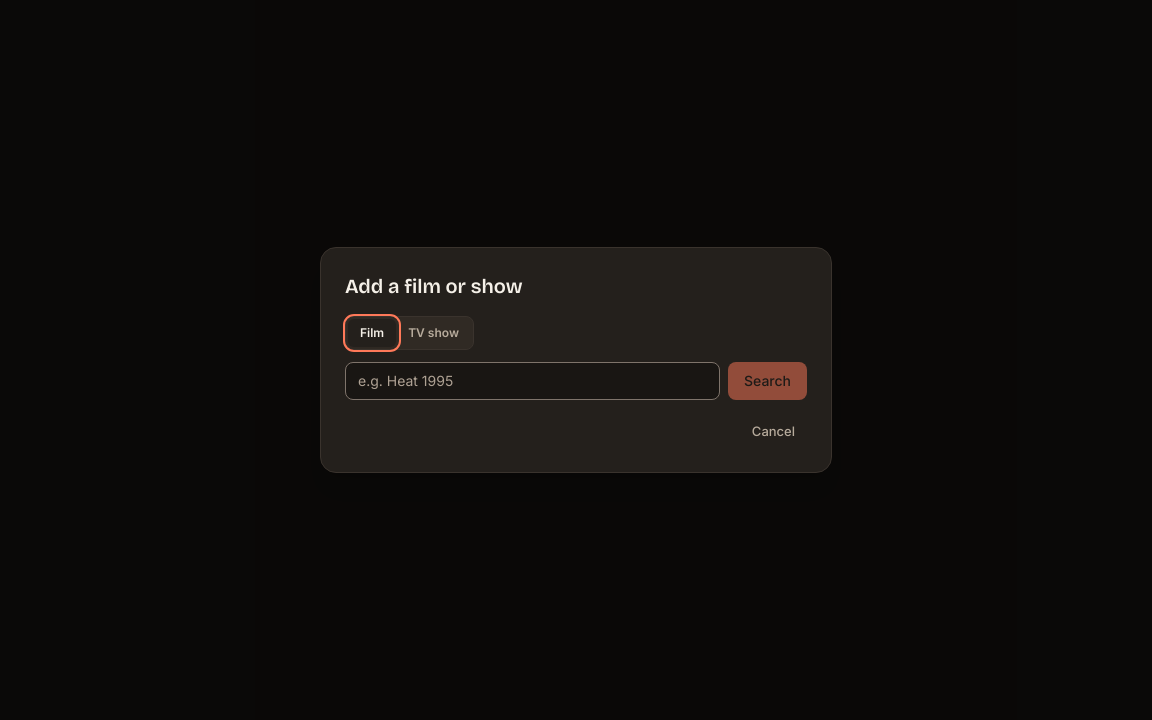
Test: AddTitleModal › asks for a rating before a review, as books do
Type "Heat" into the field named "Title".
click(532, 381); type("Heat")  # box [345, 362, 720, 400]
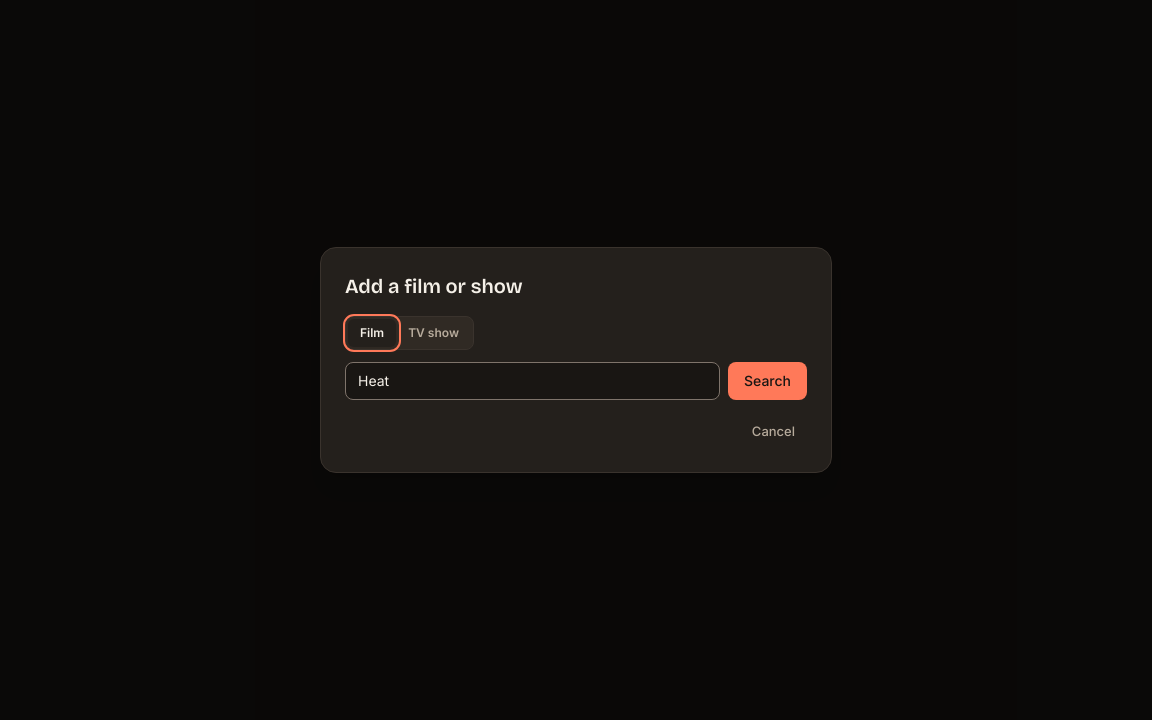
Click the button "Search".
click(768, 381)  # box [728, 362, 807, 400]
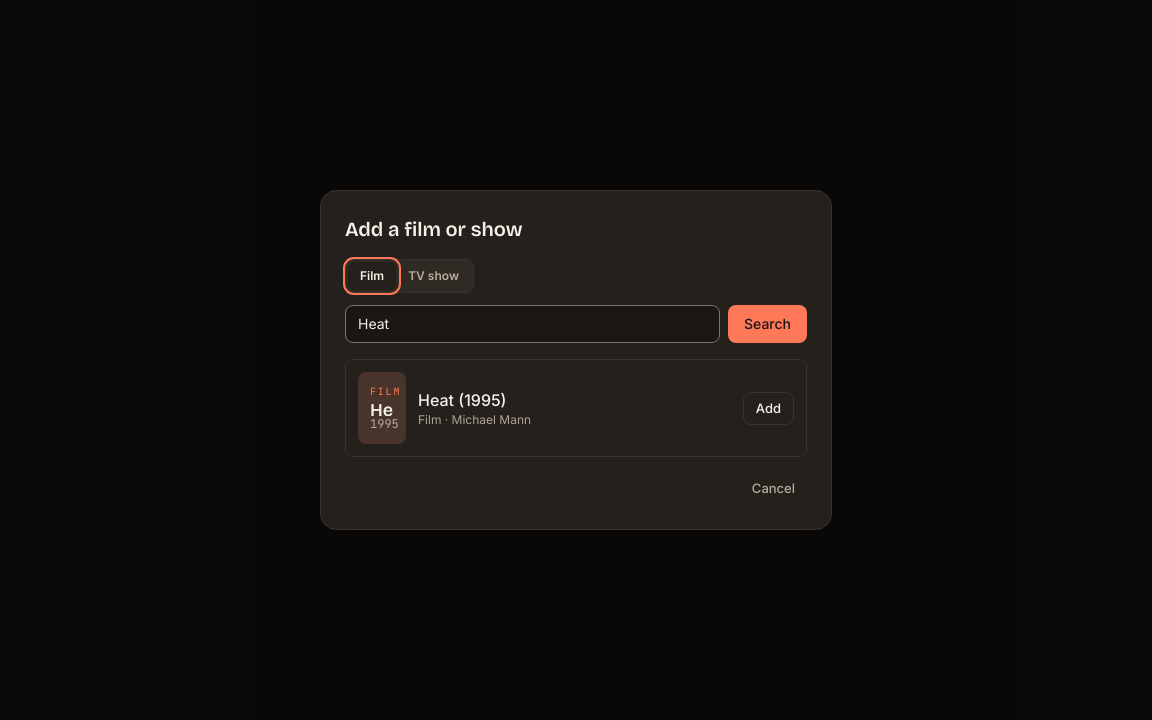
Click the button with aria-label "Add: Heat (1995)".
click(768, 408)  # box [743, 392, 794, 425]
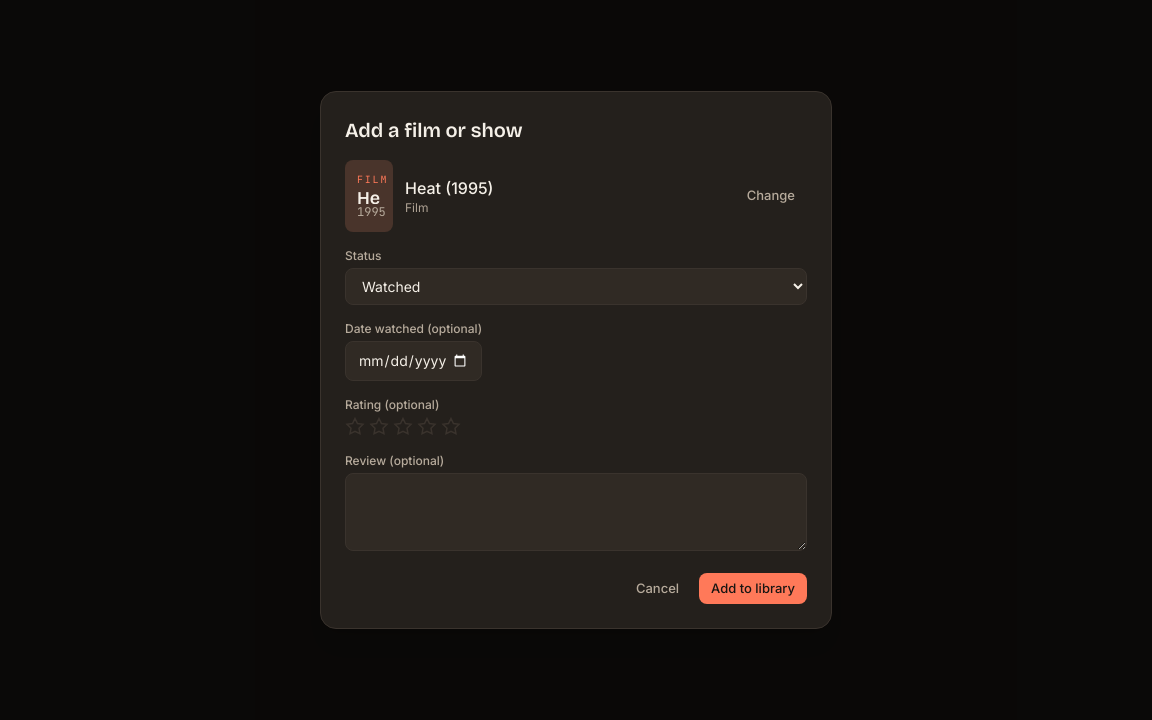
Type "Great." into the text box labelled "Review (optional)".
click(576, 512); type("Great.")  # box [345, 473, 807, 551]
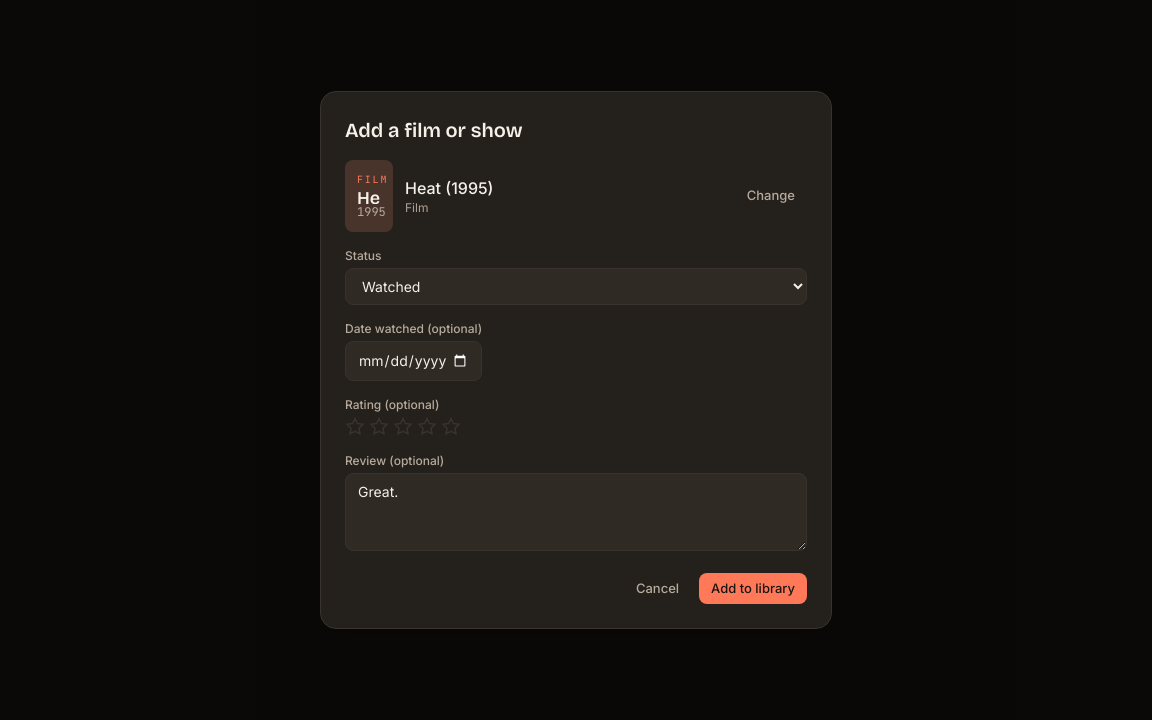
Click the button "Add to library".
click(753, 589)  # box [699, 573, 807, 604]
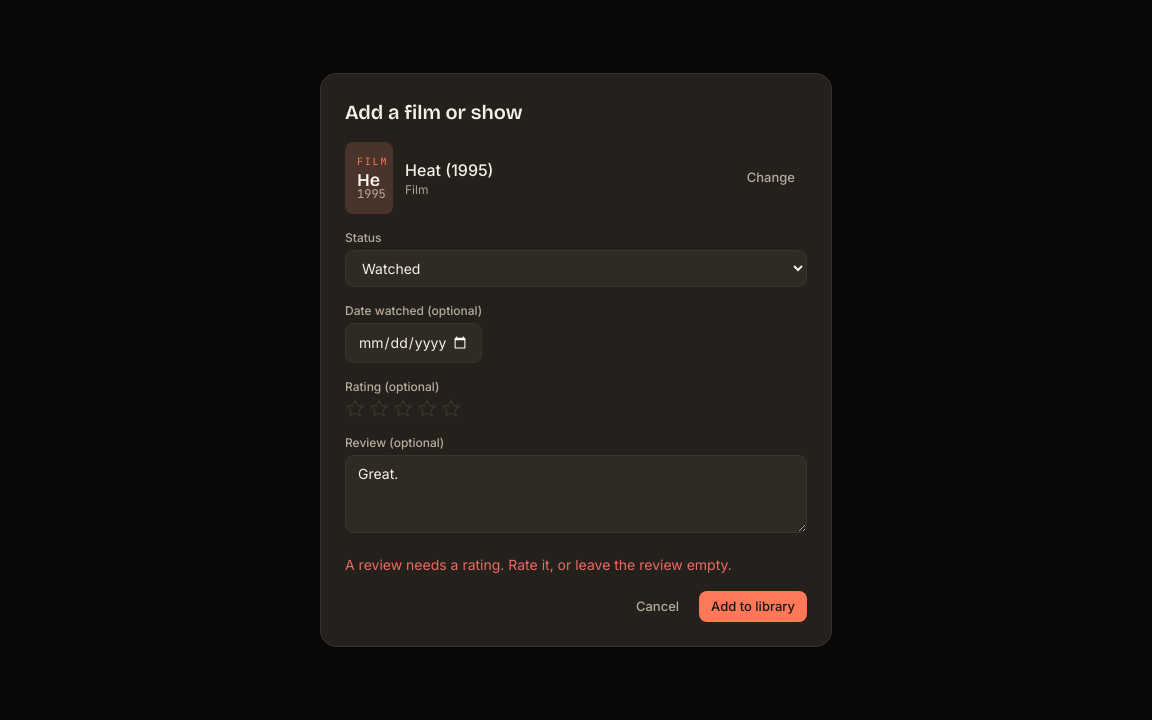
Expected: the message shows "A review needs a rating", [345, 556, 732, 573]
